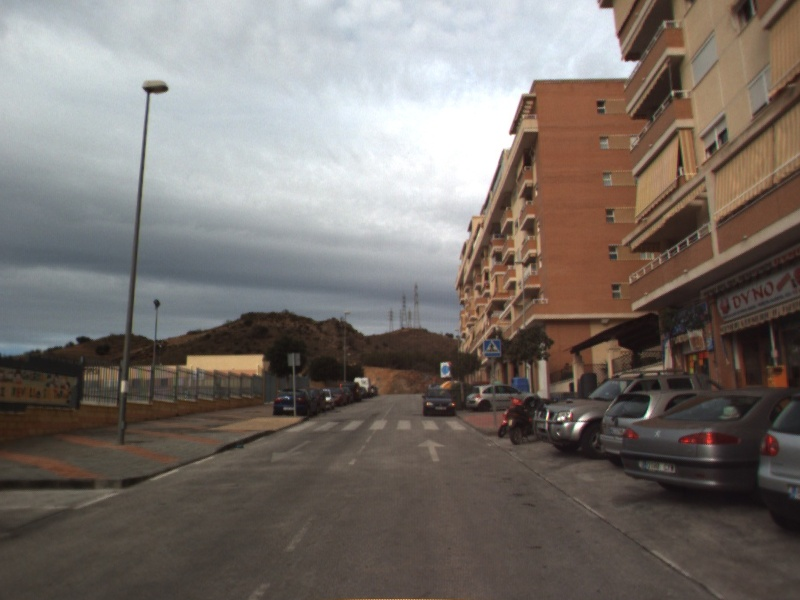STRAIGHT: (415, 437, 448, 463)
